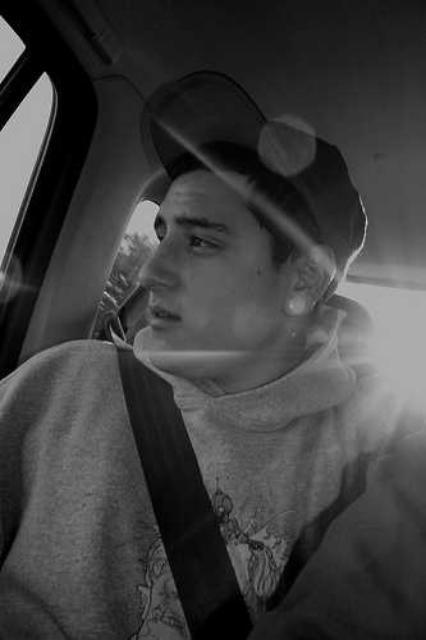SafeDriving: (178, 224, 228, 258)
Seatbelt: (98, 296, 262, 638)
